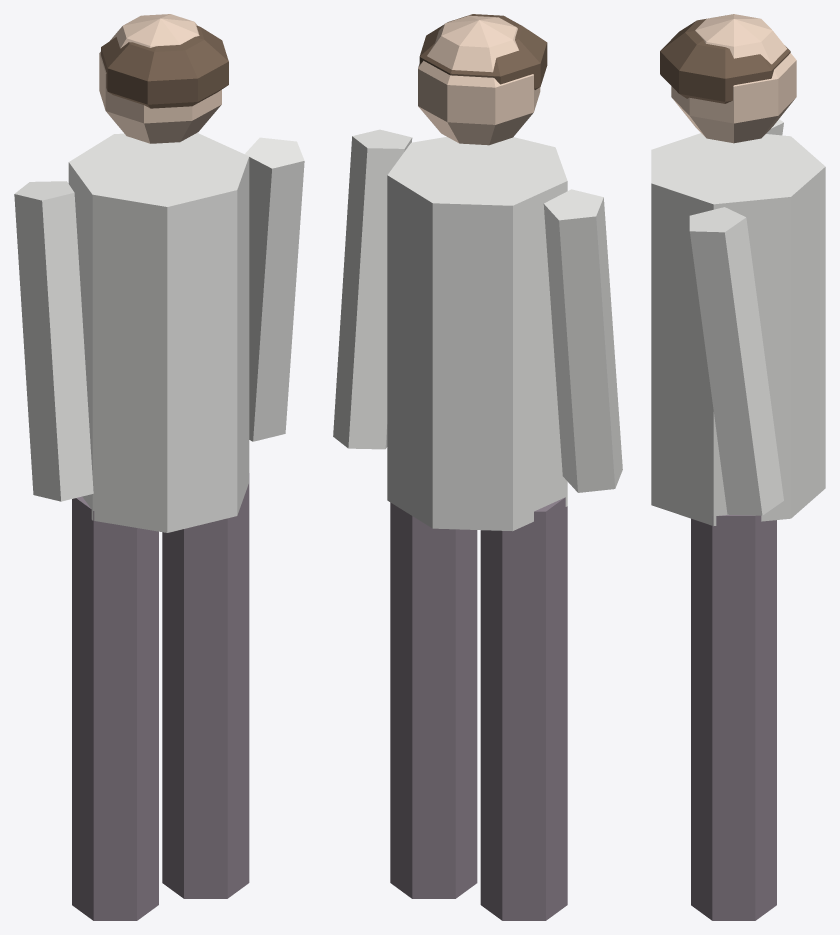
The model's file is ped_7.glb.
3 renders of one model, left to right at view 1: azimuth 30°, elevation 25°; view 2: azimuth 150°, elevation 25°; view 3: azimuth 270°, elevation 25°, orthographic.
Visible parts, largest first — view 1: ped_7; view 2: ped_7; view 3: ped_7.
Part boxes in pixels (box(x1,y1,x2,y2)): ped_7: box(14, 14, 304, 920); ped_7: box(333, 14, 622, 920); ped_7: box(651, 14, 825, 920).
Bounding box in the file's own units: 0.5246 × 1.67 × 0.3042.
